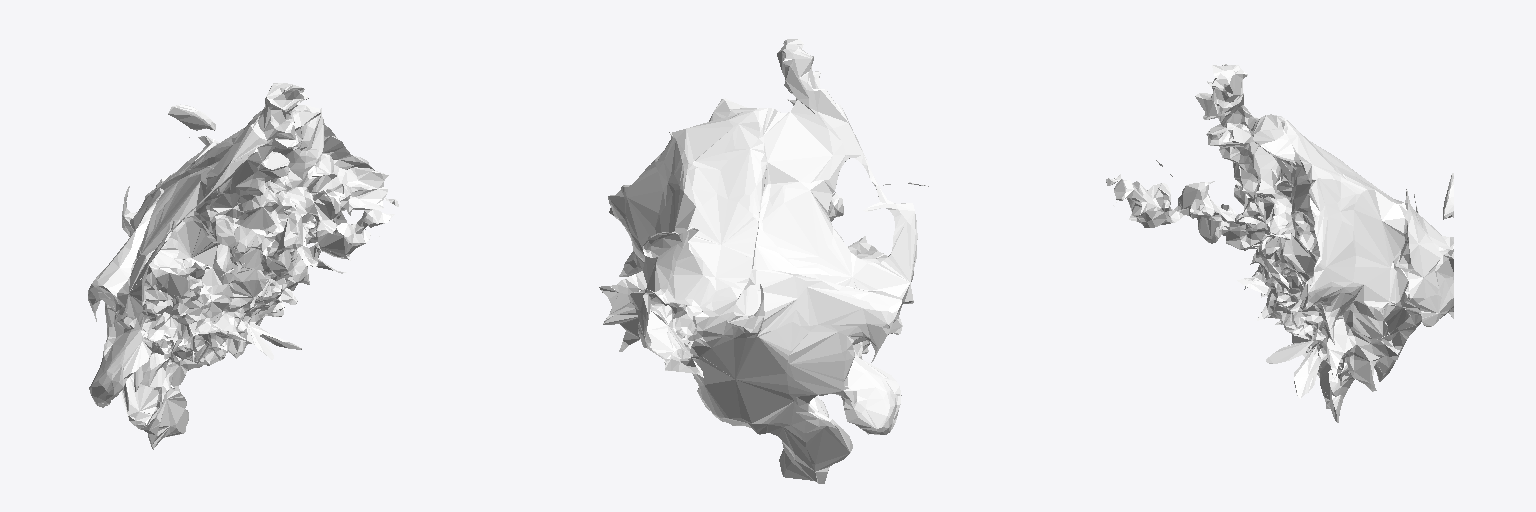
The model's file is boq1_100k.obj.
3 views of the same model, side by side, from view 1: azimuth 30°, elevation 25°; view 2: azimuth 150°, elevation 25°; view 3: azimuth 270°, elevation 25° (orthographic).
Size of the model in its own units: 22.97 by 28.73 by 23.65.